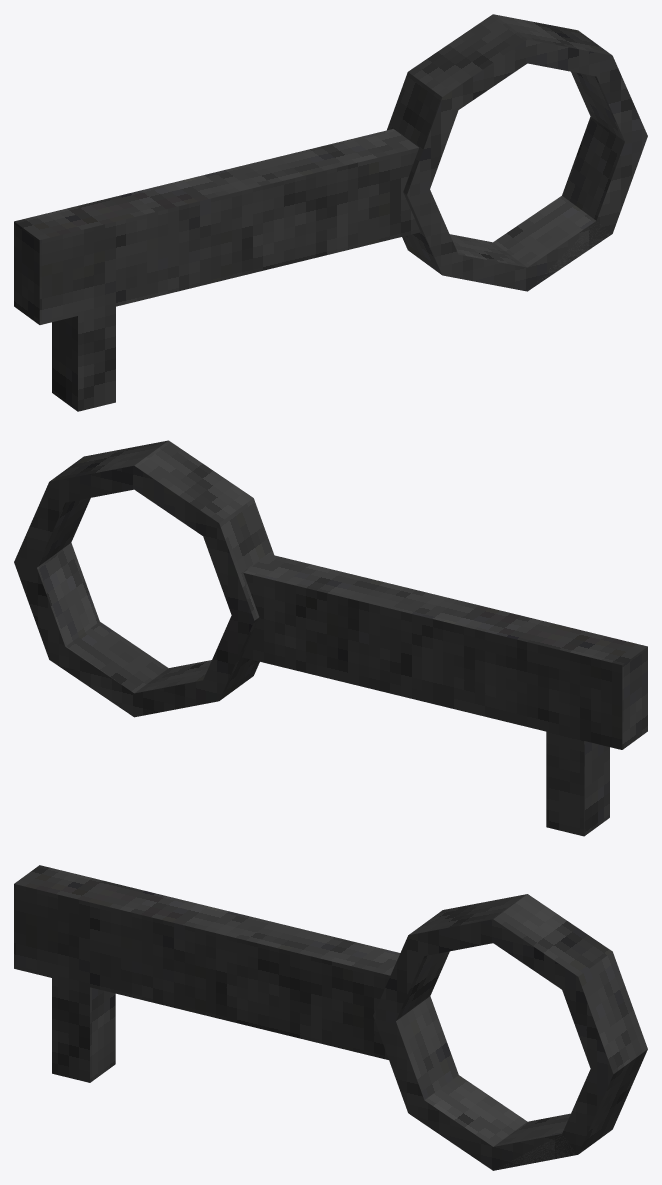
Rendered from chaveporao.fbx.
3 renders of one model, top to bottom at view 1: azimuth 30°, elevation 25°; view 2: azimuth 150°, elevation 25°; view 3: azimuth 330°, elevation 25°, orthographic.
Parts seen in each view (by area): view 1: chavedoPoroa; view 2: chavedoPoroa; view 3: chavedoPoroa.
Boxes of the visible parts, bbox=[...] form: chavedoPoroa: bbox=[14, 14, 647, 411]; chavedoPoroa: bbox=[14, 440, 647, 836]; chavedoPoroa: bbox=[14, 865, 647, 1170].
Size of the model in its own units: 204 by 85.8 by 20.18.
